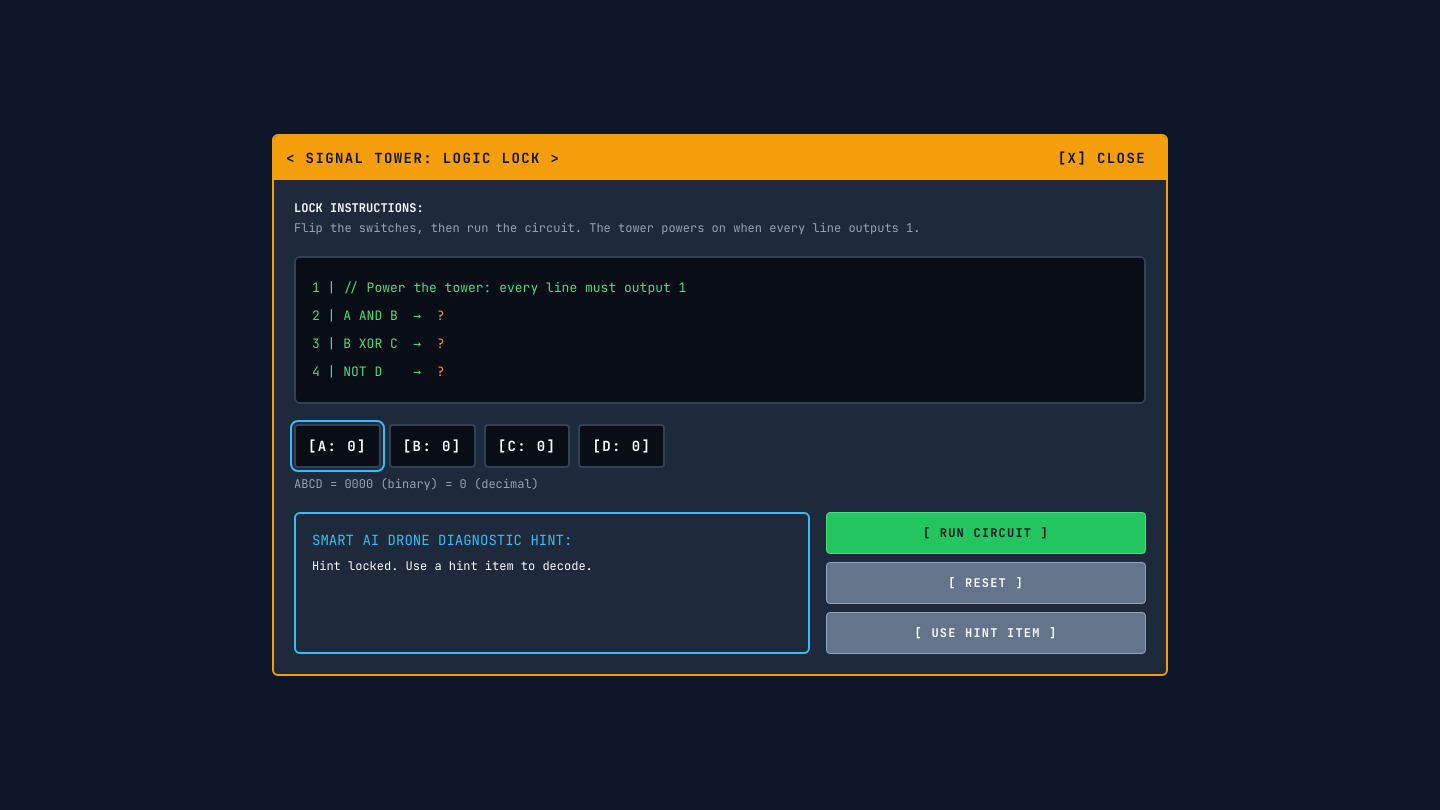
LogicModal › toggles switches by click and by keyboard, updating the readout
Click the switch labelled "[A: 0]".
click(337, 446)  # box [294, 424, 381, 468]
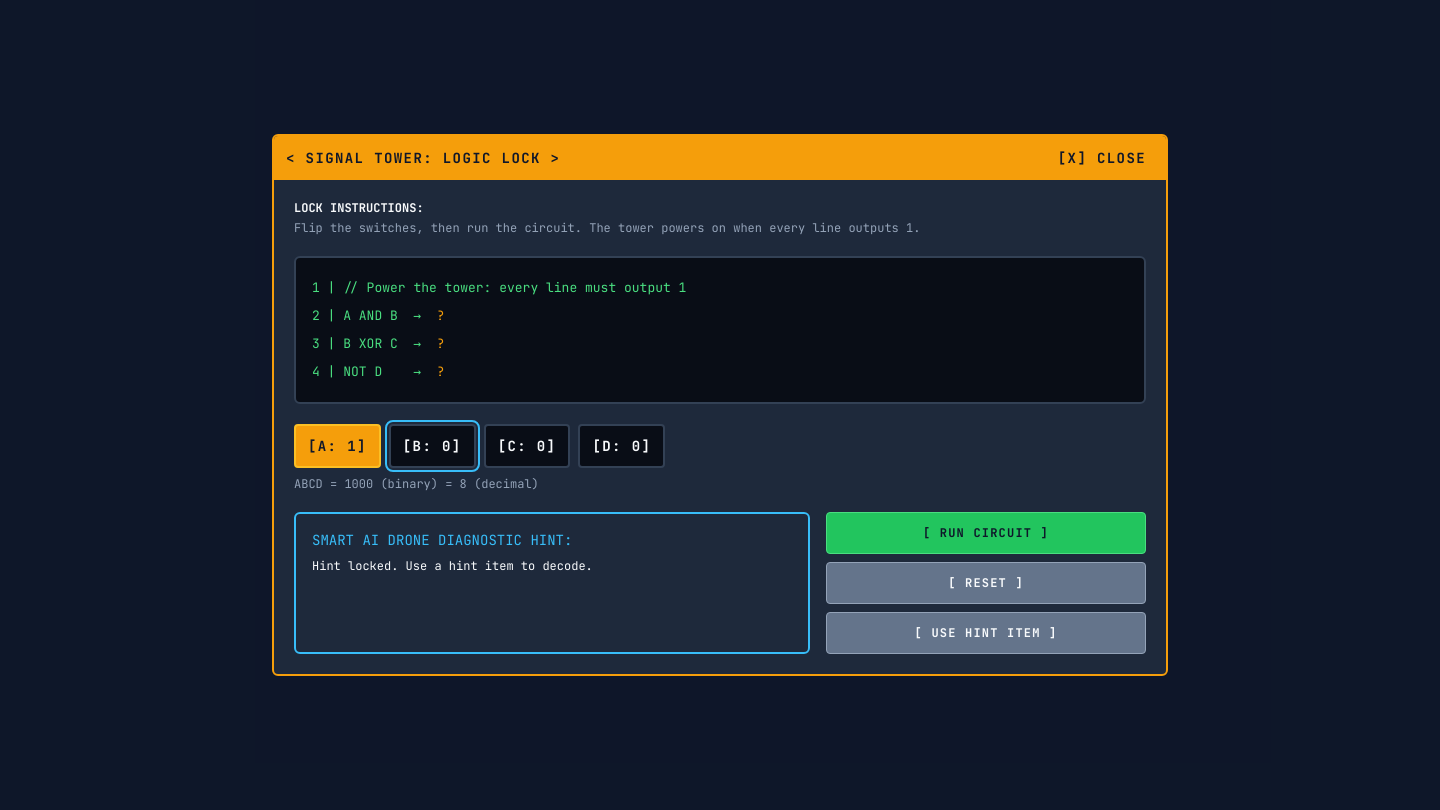
Type keys " "
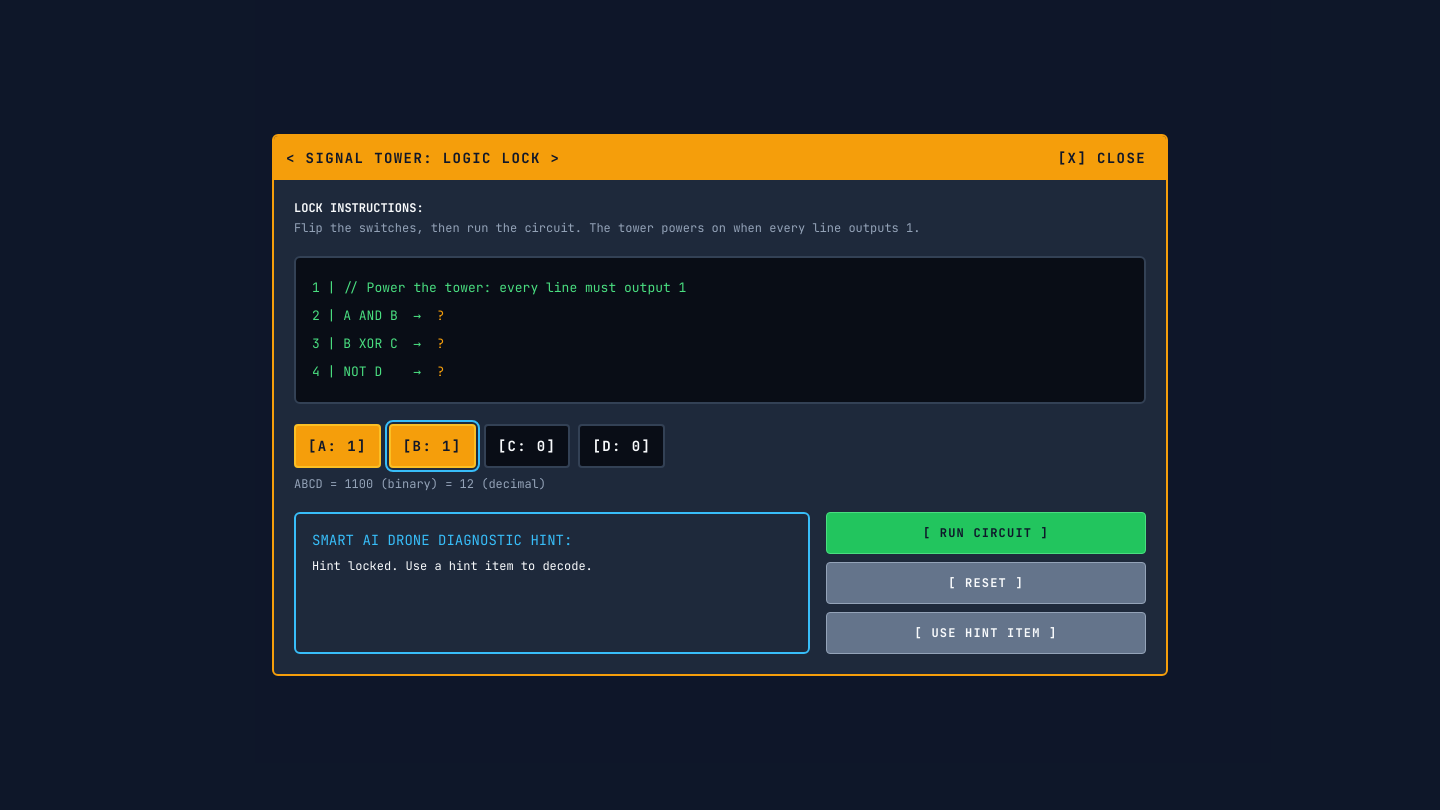
Now the text "ABCD = 1100 (binary) = 12 (decimal)" is shown, box [294, 476, 546, 492]
